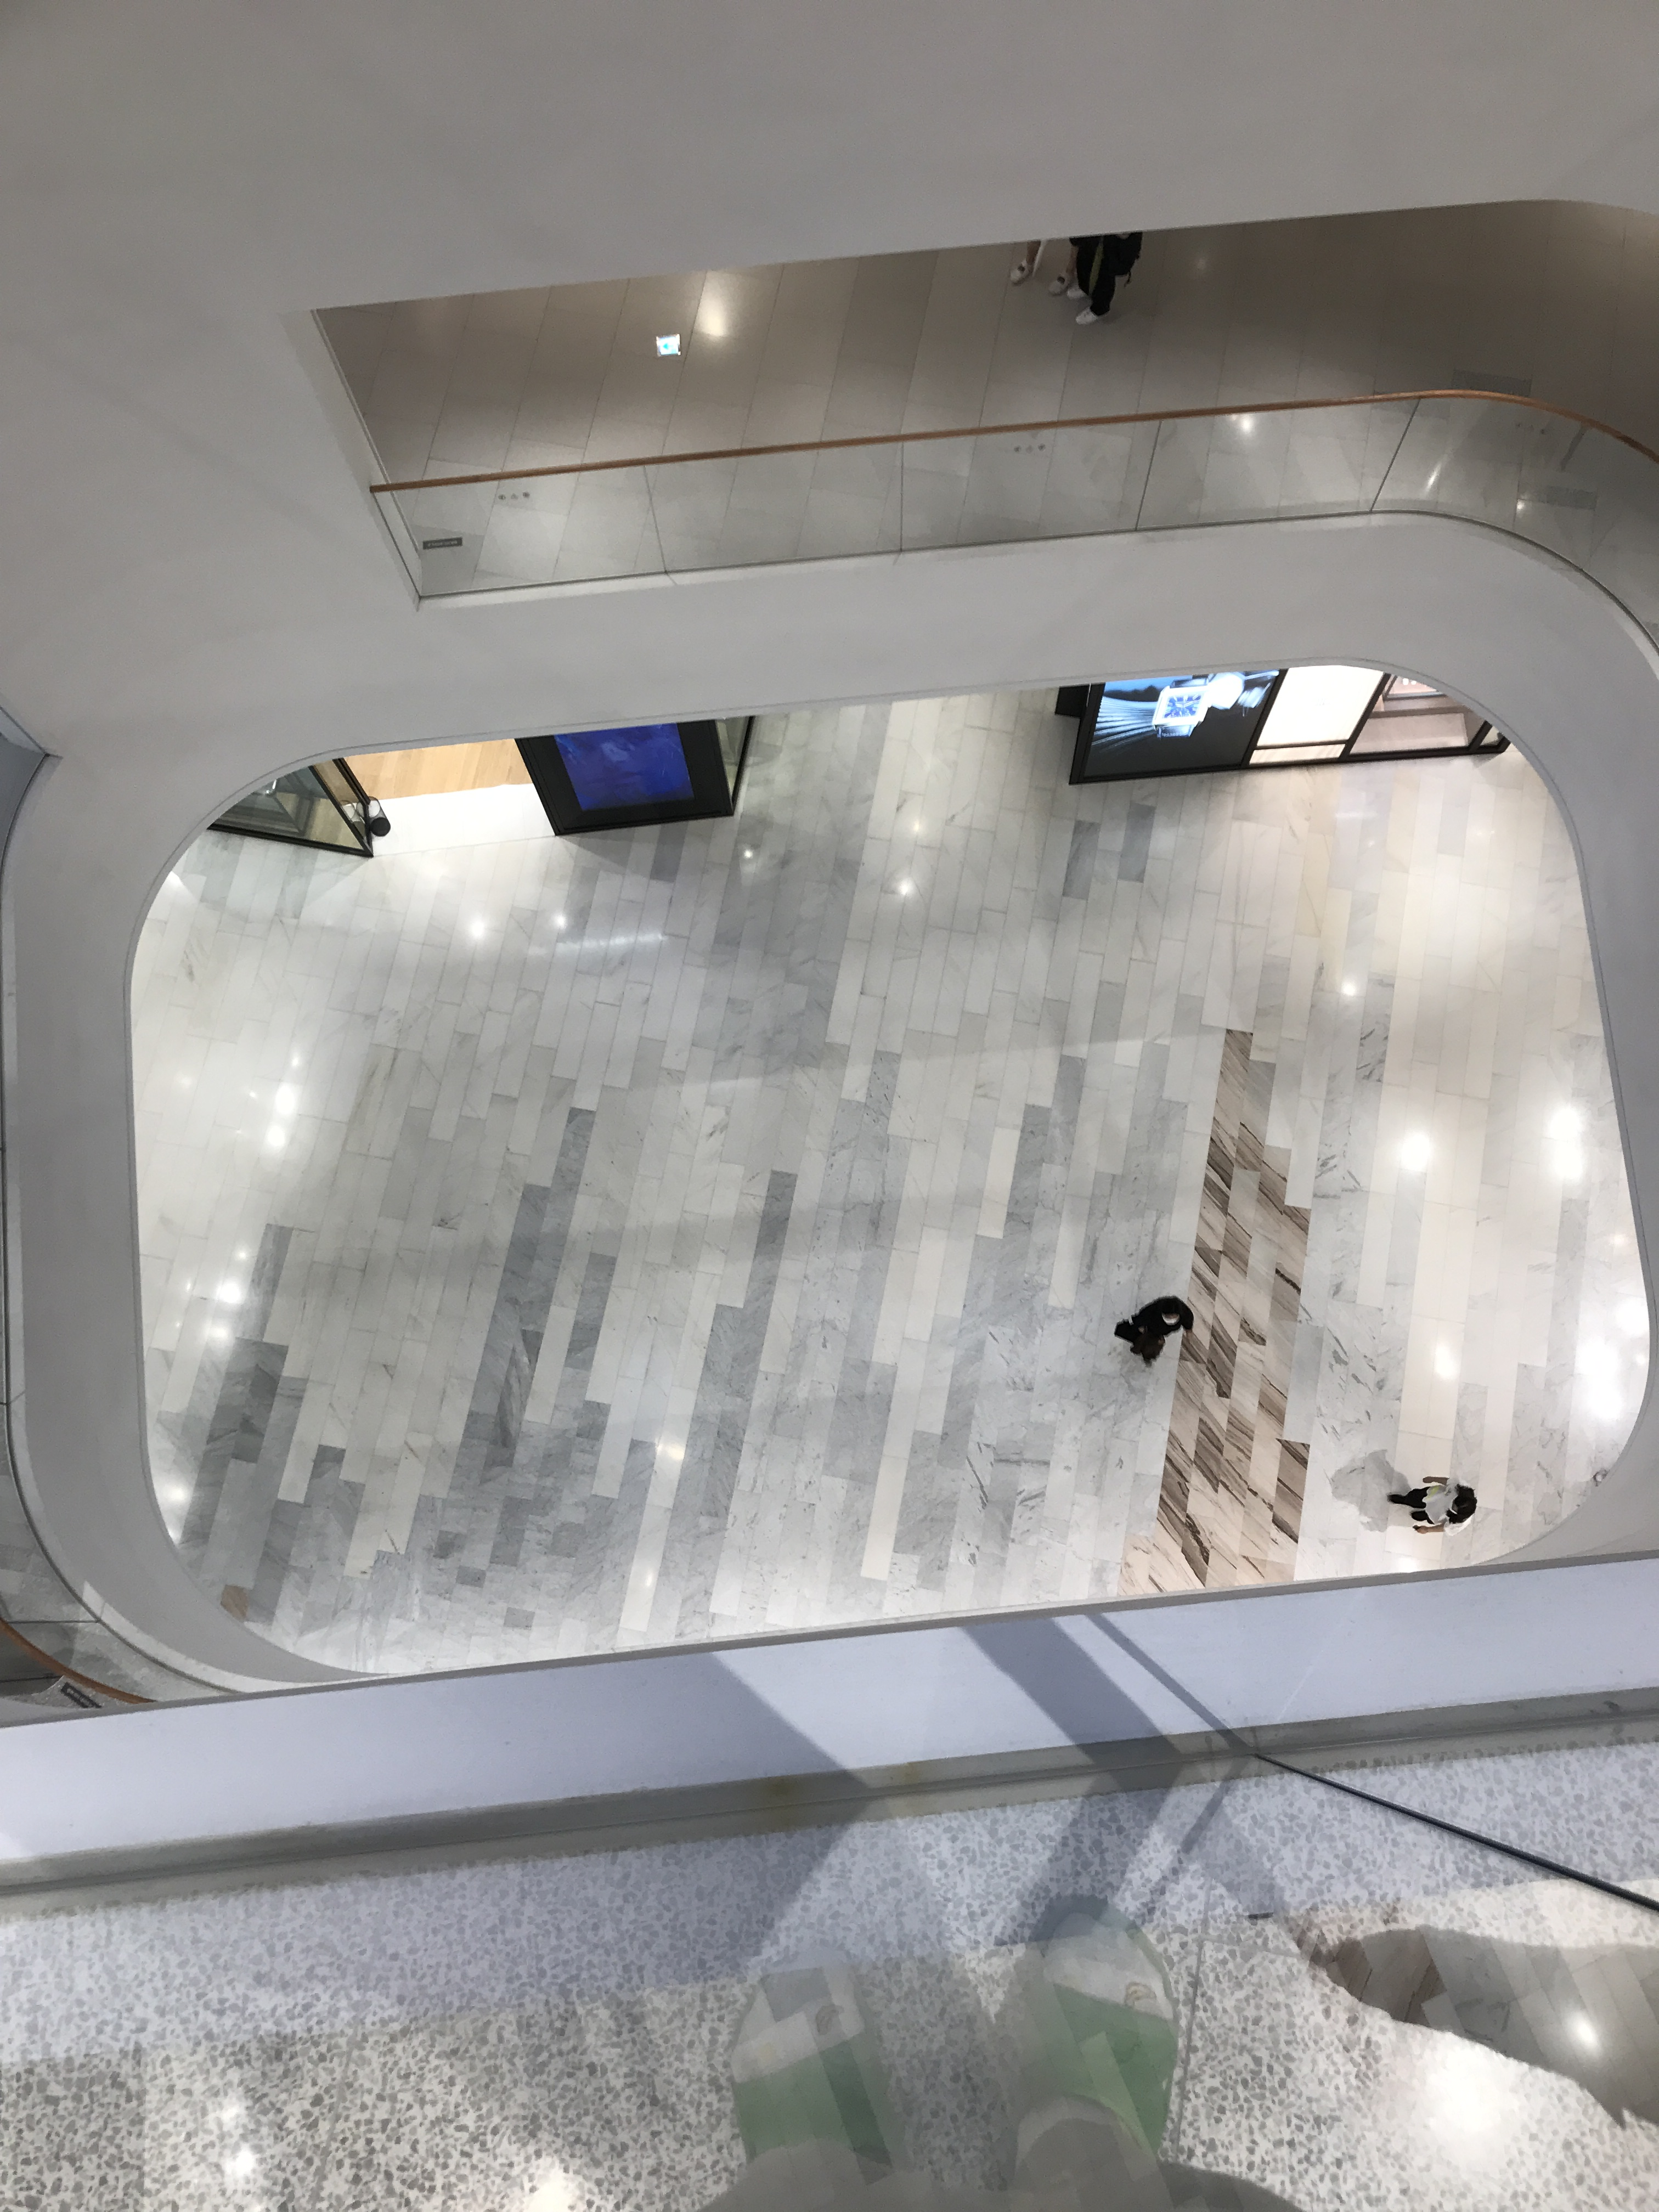person: (1067, 233, 1135, 330), (1383, 1472, 1474, 1539), (1112, 1290, 1185, 1369)
